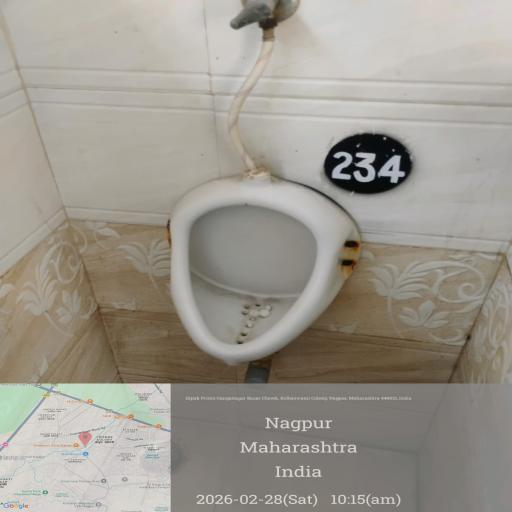clean_floor: (34, 343, 512, 512), (11, 15, 512, 169)
clean_urinal: (153, 156, 378, 374)
